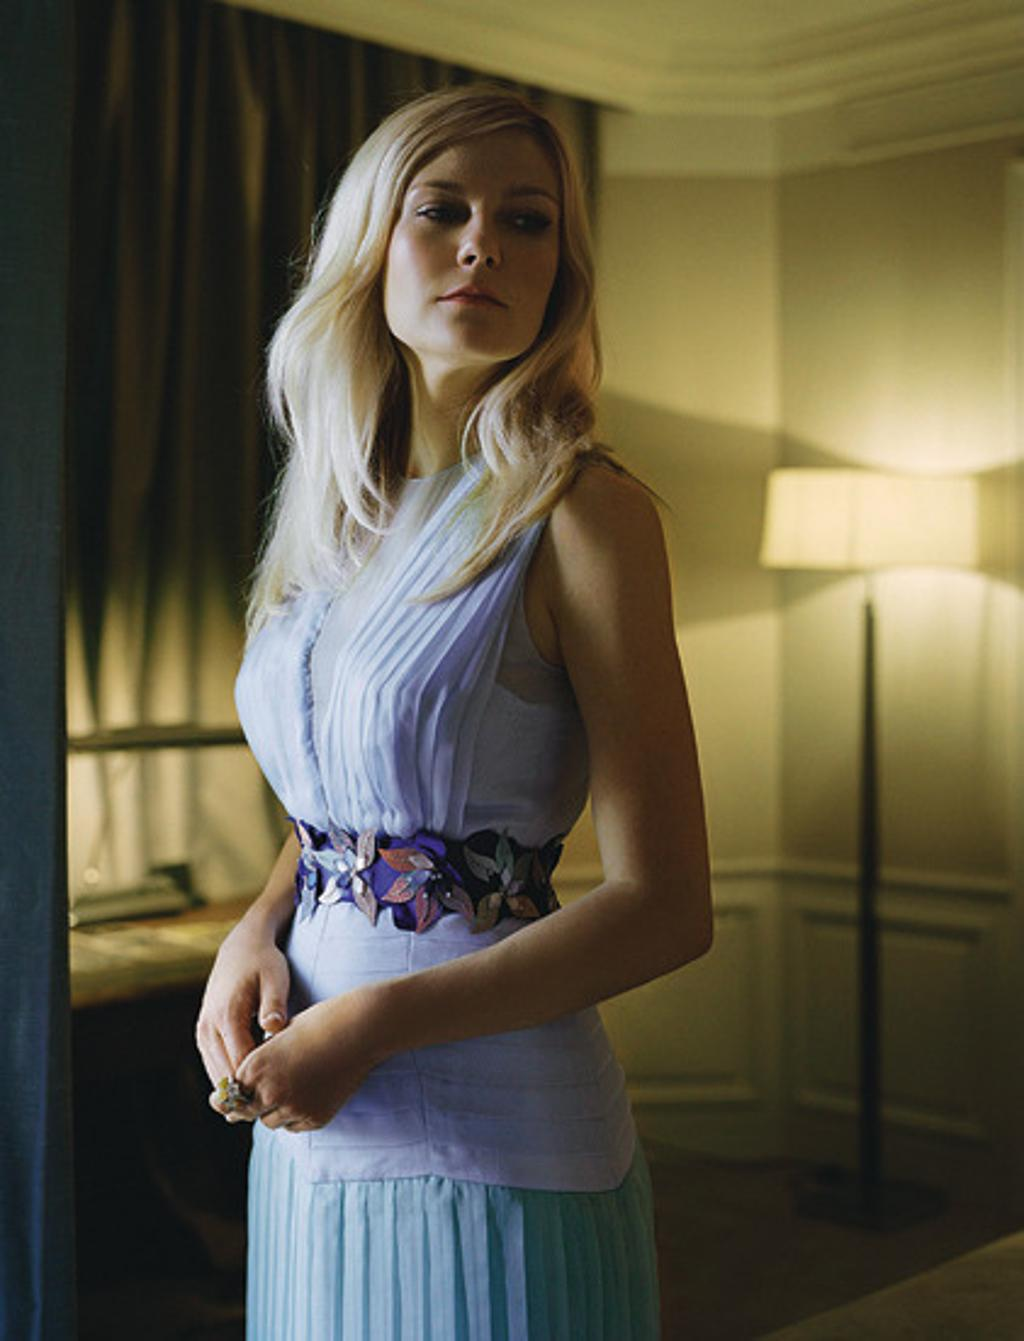face: (388, 128, 561, 361)
